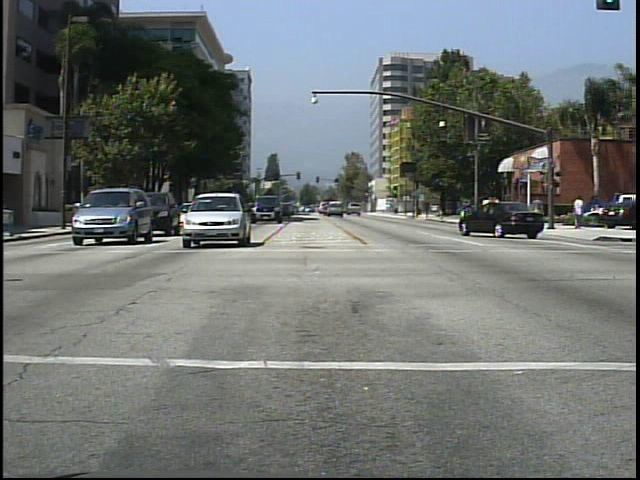person: (530, 192, 548, 232), (571, 191, 586, 231)
